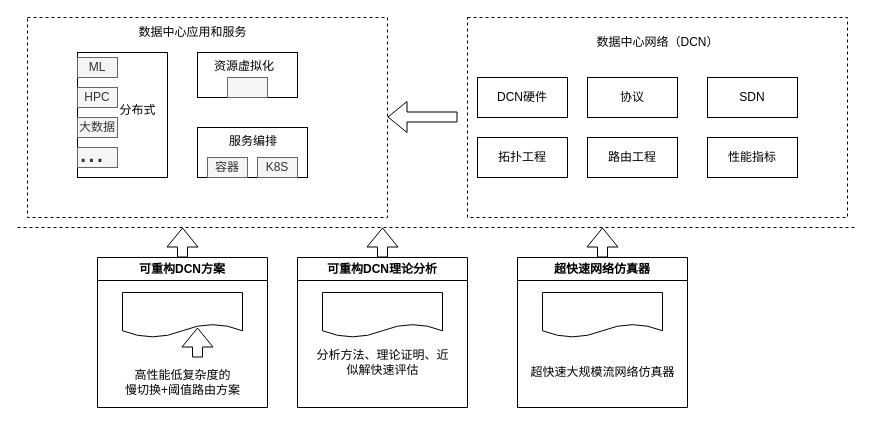
The diagram is 876 pixels wide and 425 high, and some of its shapes have lost their labels. Here are the shapes that lost their labels. From the top down, the centre of each, then its label:
[182,315]: 瓶颈、挑战
[382,315]: 吞吐、规模 NP-hard求解
[602,315]: 大规模仿真太慢
